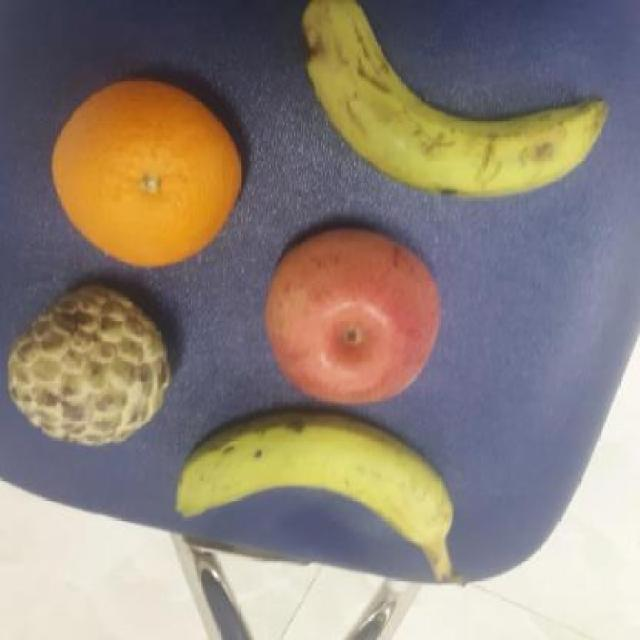apple: (265, 228, 443, 407)
banana: (296, 0, 610, 202), (176, 403, 453, 563)
oren: (46, 79, 249, 270)
sugar apple: (5, 283, 177, 448)
